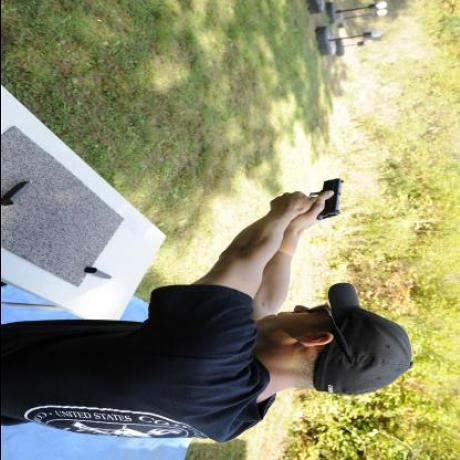1: (0, 188, 413, 444)
weapon: (279, 166, 361, 230)
